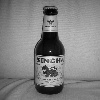beer: (33, 4, 69, 96)
